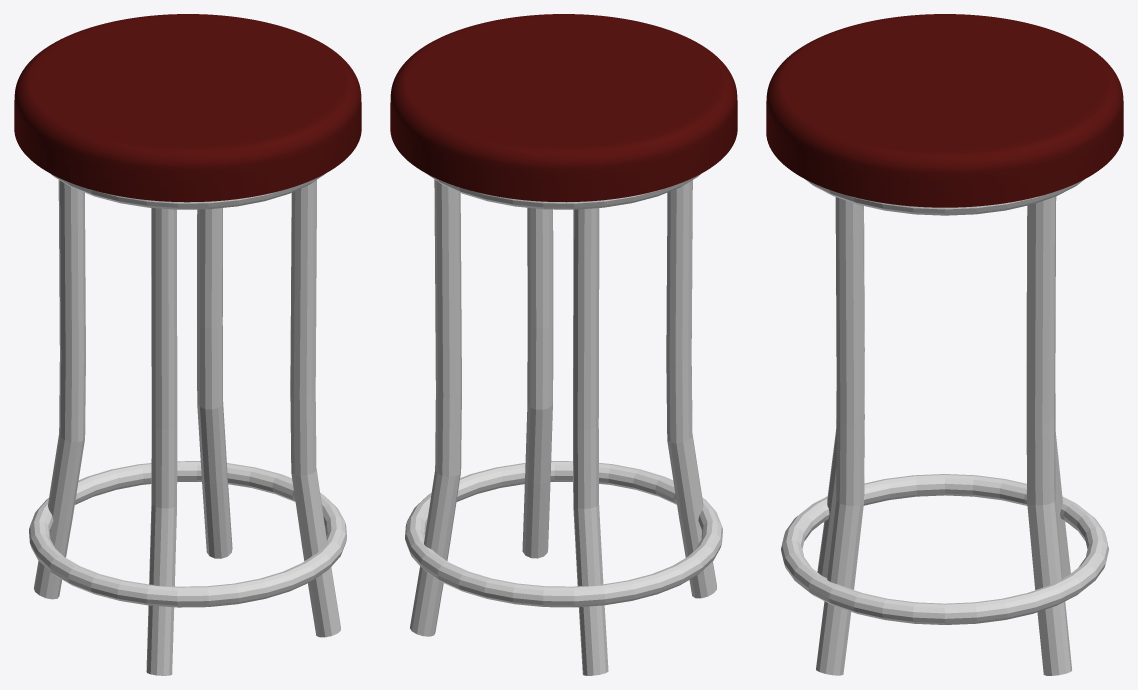
Rendered from stool.fbx.
3 renders of one model, left to right at view 1: azimuth 30°, elevation 25°; view 2: azimuth 150°, elevation 25°; view 3: azimuth 270°, elevation 25°, orthographic. The views are drawn at different scales.
Parts seen in each view (by area): view 1: Vert, Circle; view 2: Vert, Circle; view 3: Circle, Vert.
Boxes of the visible parts, left/top/right/bottom form: Vert: left=29, top=173, right=346, bottom=675; Circle: left=14, top=14, right=361, bottom=202; Vert: left=405, top=173, right=722, bottom=675; Circle: left=390, top=14, right=737, bottom=202; Circle: left=766, top=14, right=1123, bottom=207; Vert: left=781, top=179, right=1108, bottom=675.
Size of the model in its own units: 1.99 by 3.37 by 1.99.
